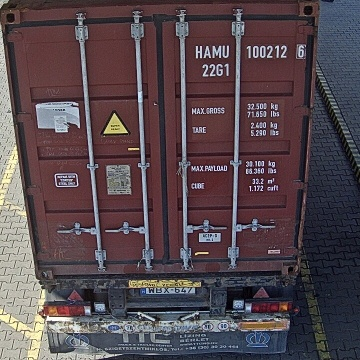serial_id: (195, 45, 305, 58)
